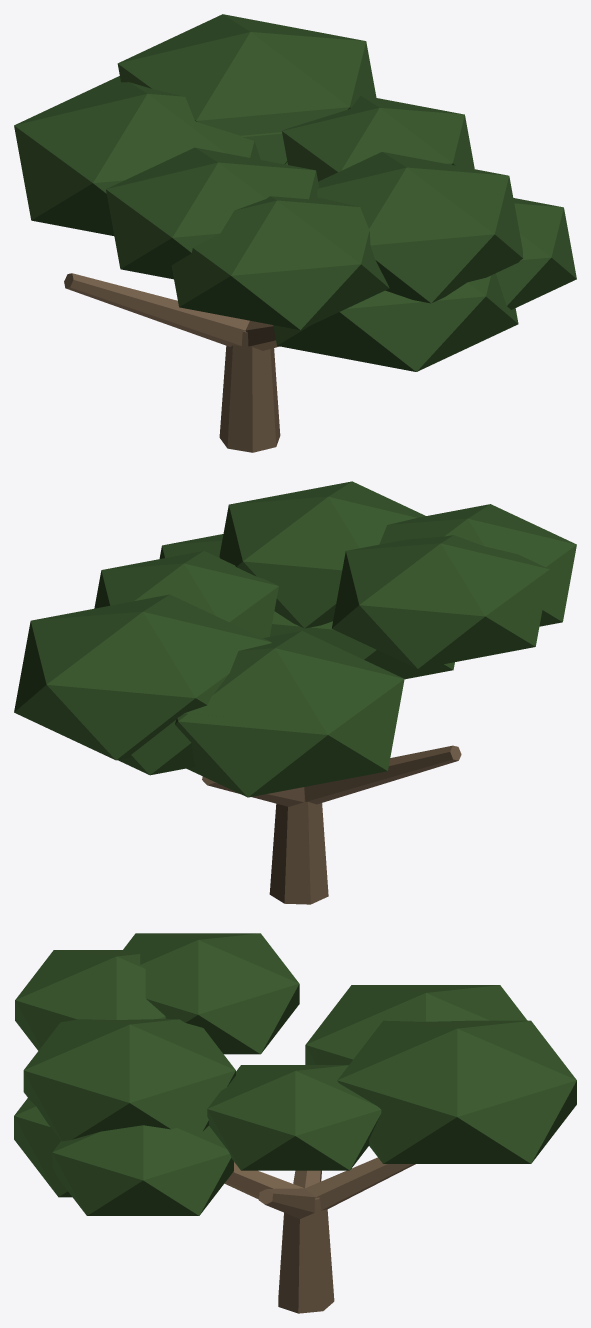
File: LiveOak.fbx
3 views of the same model, one above another, from view 1: azimuth 30°, elevation 25°; view 2: azimuth 150°, elevation 25°; view 3: azimuth 270°, elevation 25° (orthographic). The views are drawn at different scales.
Parts seen in each view (by area): view 1: LiveOak; view 2: LiveOak; view 3: LiveOak.
Part boxes in pixels (<box>): LiveOak: <box>14,14,576,452</box>; LiveOak: <box>14,481,576,904</box>; LiveOak: <box>14,933,576,1313</box>.
Size of the model in its own units: 3368 by 2642 by 4203.
